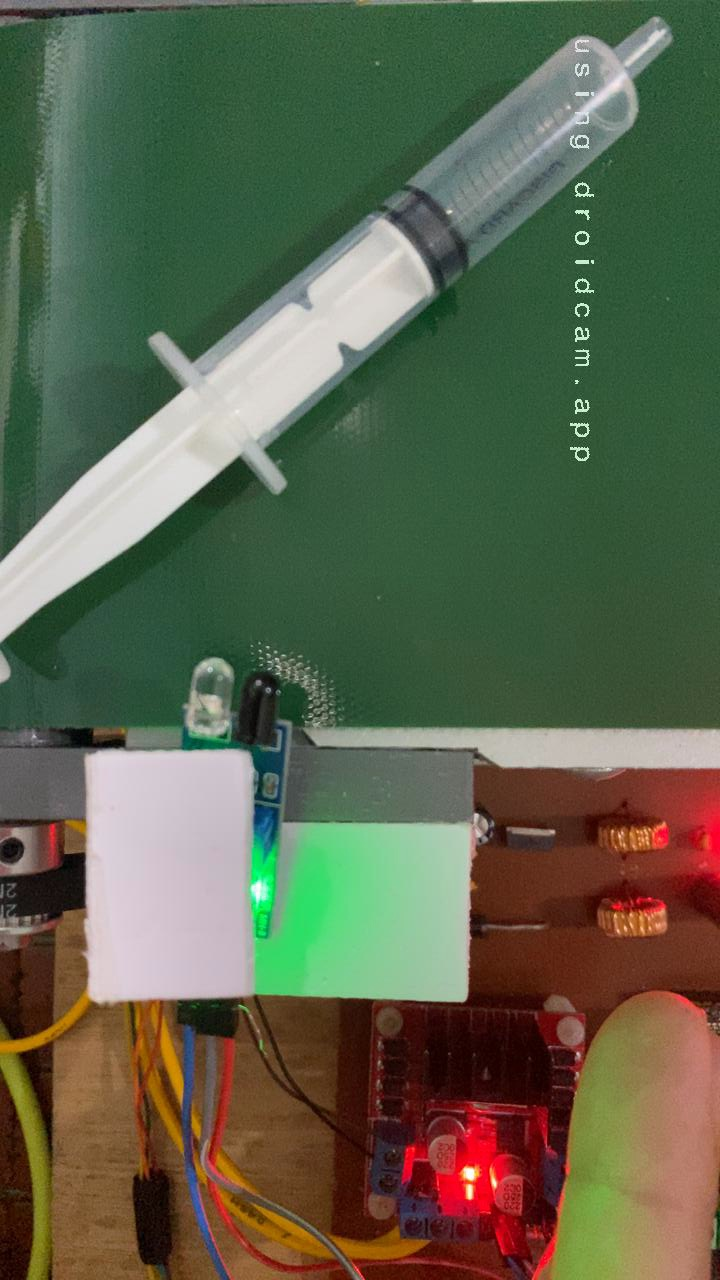syringe: (0, 10, 680, 653)
